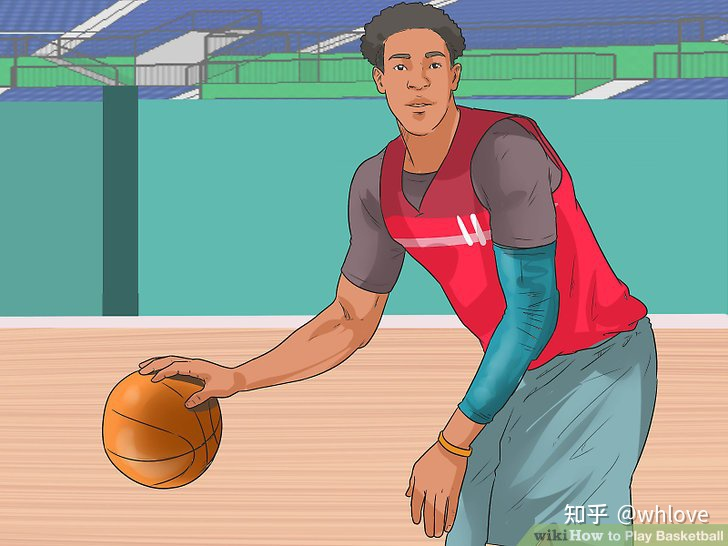ball: (102, 365, 222, 491)
